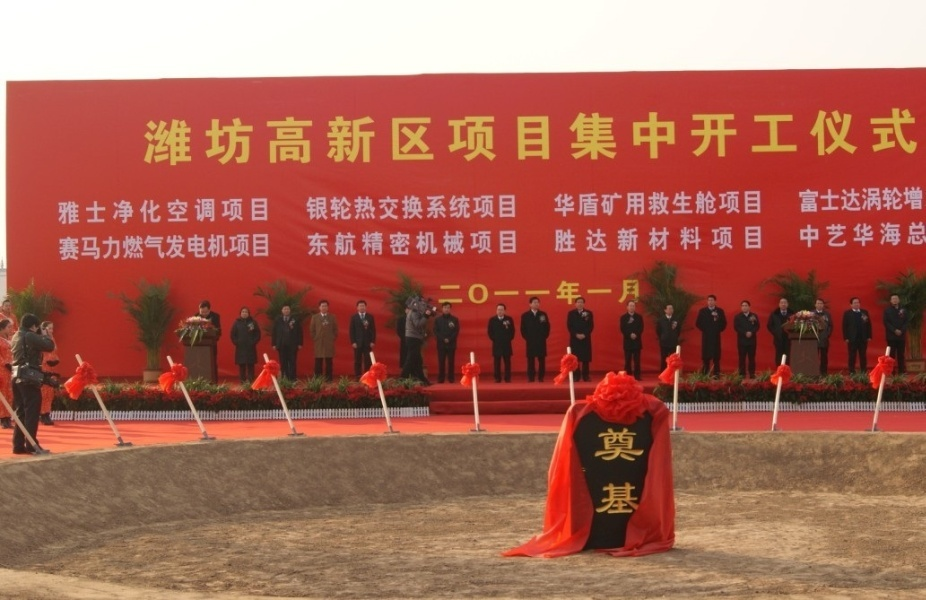text: (609, 427, 624, 517), (625, 427, 640, 517), (595, 427, 608, 517), (145, 109, 160, 167), (161, 109, 176, 167), (177, 109, 192, 167), (193, 109, 208, 167), (209, 109, 224, 167), (225, 109, 240, 167), (241, 109, 256, 167), (257, 109, 272, 167), (273, 109, 288, 167), (289, 109, 304, 167), (305, 109, 320, 167), (321, 109, 336, 167), (337, 109, 352, 167), (353, 109, 368, 167), (369, 109, 384, 167), (385, 109, 400, 167), (401, 109, 416, 167), (417, 109, 432, 167), (433, 109, 448, 167), (449, 109, 464, 167), (465, 109, 480, 167), (481, 109, 496, 167), (497, 109, 512, 167), (513, 109, 528, 167), (529, 109, 544, 167), (545, 109, 560, 167), (561, 109, 576, 167), (577, 109, 592, 167), (593, 109, 608, 167), (609, 109, 624, 167), (625, 109, 640, 167), (641, 109, 656, 167), (657, 109, 672, 167), (673, 109, 688, 167), (689, 109, 704, 167), (705, 109, 720, 167), (721, 109, 736, 167), (737, 109, 752, 167), (753, 109, 768, 167), (769, 109, 784, 167), (785, 109, 800, 167), (801, 109, 816, 167), (817, 109, 832, 167), (833, 109, 848, 167), (849, 109, 864, 167), (865, 109, 880, 167), (881, 109, 896, 167), (897, 109, 912, 167), (65, 232, 80, 263), (81, 232, 96, 263), (97, 232, 112, 263), (113, 232, 128, 263), (129, 232, 144, 263), (145, 232, 160, 263), (161, 232, 176, 263), (177, 232, 192, 263), (193, 232, 208, 263), (209, 232, 224, 263), (225, 232, 240, 263), (241, 232, 256, 263), (801, 185, 816, 215), (817, 185, 832, 215), (833, 185, 848, 215), (849, 185, 864, 215), (865, 185, 880, 215), (881, 185, 896, 215), (897, 185, 912, 215), (561, 224, 576, 254), (577, 224, 592, 254), (593, 224, 608, 254), (609, 224, 624, 254), (625, 224, 640, 254), (641, 224, 656, 254), (657, 224, 672, 254), (673, 224, 688, 254), (689, 224, 704, 254), (705, 224, 720, 254), (721, 224, 736, 254), (737, 224, 752, 254), (801, 221, 816, 250), (817, 221, 832, 250), (833, 221, 848, 250), (849, 221, 864, 250), (865, 221, 880, 250), (881, 221, 896, 250), (897, 221, 912, 250), (257, 232, 271, 263), (625, 280, 641, 307), (65, 198, 80, 226), (81, 198, 96, 226), (97, 198, 112, 226), (113, 198, 128, 226), (129, 198, 144, 226), (145, 198, 160, 226), (161, 198, 176, 226), (177, 198, 192, 226), (193, 198, 208, 226), (209, 198, 224, 226), (225, 198, 240, 226), (241, 198, 256, 226), (561, 190, 576, 218), (577, 190, 592, 218), (593, 190, 608, 218), (609, 190, 624, 218), (625, 190, 640, 218), (641, 190, 656, 218), (657, 190, 672, 218), (673, 190, 688, 218), (689, 190, 704, 218), (705, 190, 720, 218), (721, 190, 736, 218), (737, 190, 752, 218), (321, 230, 336, 258), (337, 230, 352, 258), (353, 230, 368, 258), (369, 230, 384, 258), (385, 230, 400, 258), (401, 230, 416, 258), (417, 230, 432, 258), (433, 230, 448, 258), (449, 230, 464, 258), (465, 230, 480, 258), (481, 230, 496, 258), (497, 230, 512, 258), (449, 280, 464, 307), (465, 280, 480, 307), (481, 280, 496, 307), (497, 280, 512, 307), (513, 280, 528, 307), (529, 280, 544, 307), (545, 280, 560, 307), (561, 280, 576, 307), (577, 280, 592, 307), (593, 280, 608, 307), (609, 280, 624, 307), (321, 195, 336, 221), (337, 195, 352, 221), (353, 195, 368, 221), (369, 195, 384, 221), (385, 195, 400, 221), (401, 195, 416, 221), (417, 195, 432, 221), (433, 195, 448, 221), (449, 195, 464, 221), (465, 195, 480, 221), (481, 195, 496, 221), (497, 195, 512, 221), (913, 221, 926, 250), (257, 198, 270, 226), (306, 195, 320, 221), (308, 230, 320, 258), (913, 185, 923, 215), (437, 280, 448, 307), (913, 109, 918, 167), (753, 190, 763, 218), (753, 224, 762, 254), (553, 190, 560, 218), (58, 232, 64, 263), (641, 427, 643, 517), (58, 198, 64, 226), (555, 224, 560, 254), (513, 230, 517, 258), (513, 195, 516, 221), (799, 185, 800, 215), (799, 221, 800, 250)
